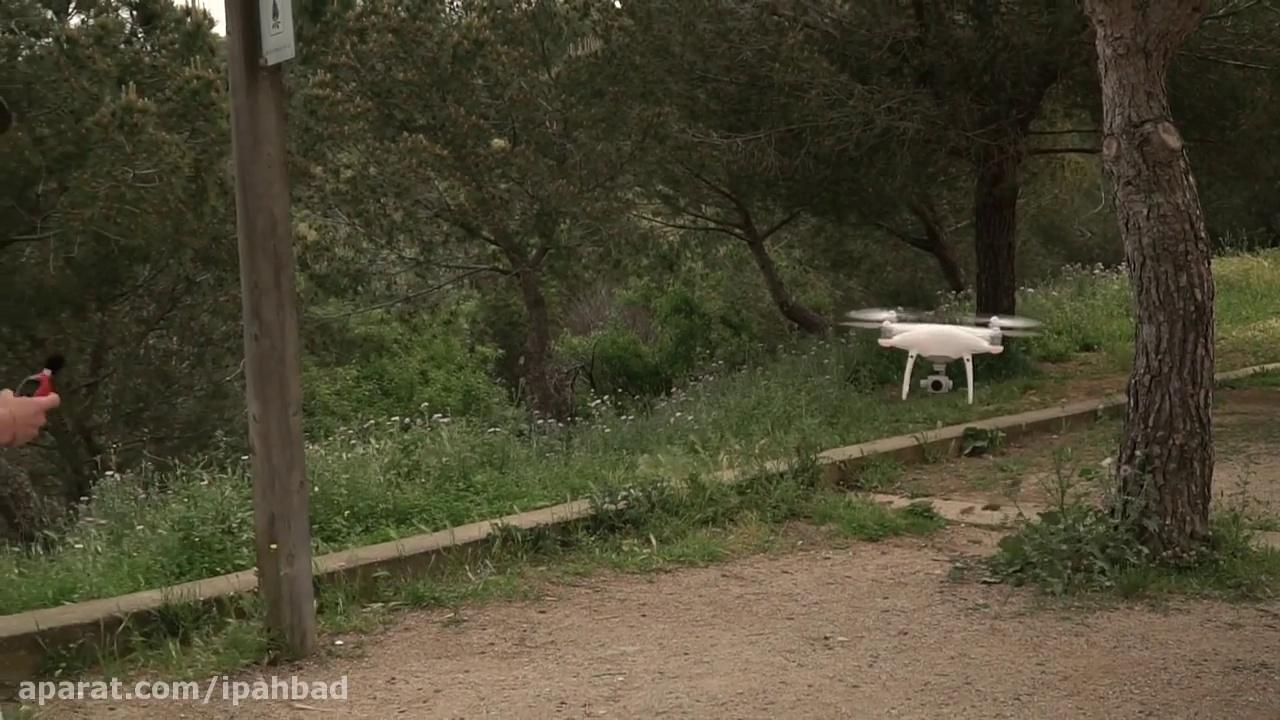drone: (836, 305, 1048, 402)
